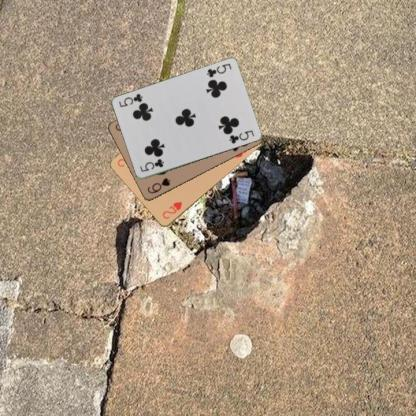2h: (160, 199, 183, 221)
5c: (204, 61, 233, 79), (137, 156, 165, 173)
6s: (144, 175, 172, 195)
